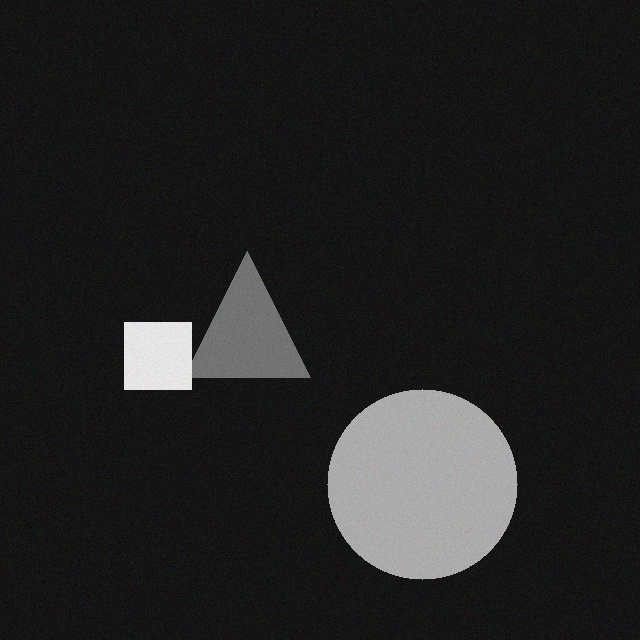circle: (333, 386, 523, 576)
square: (130, 319, 197, 386)
triangle: (190, 248, 316, 374)
